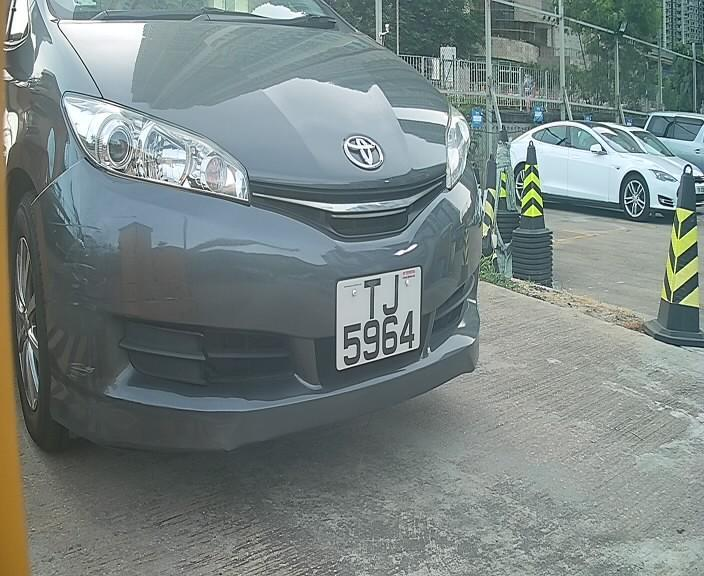privatecar: (16, 11, 513, 453)
